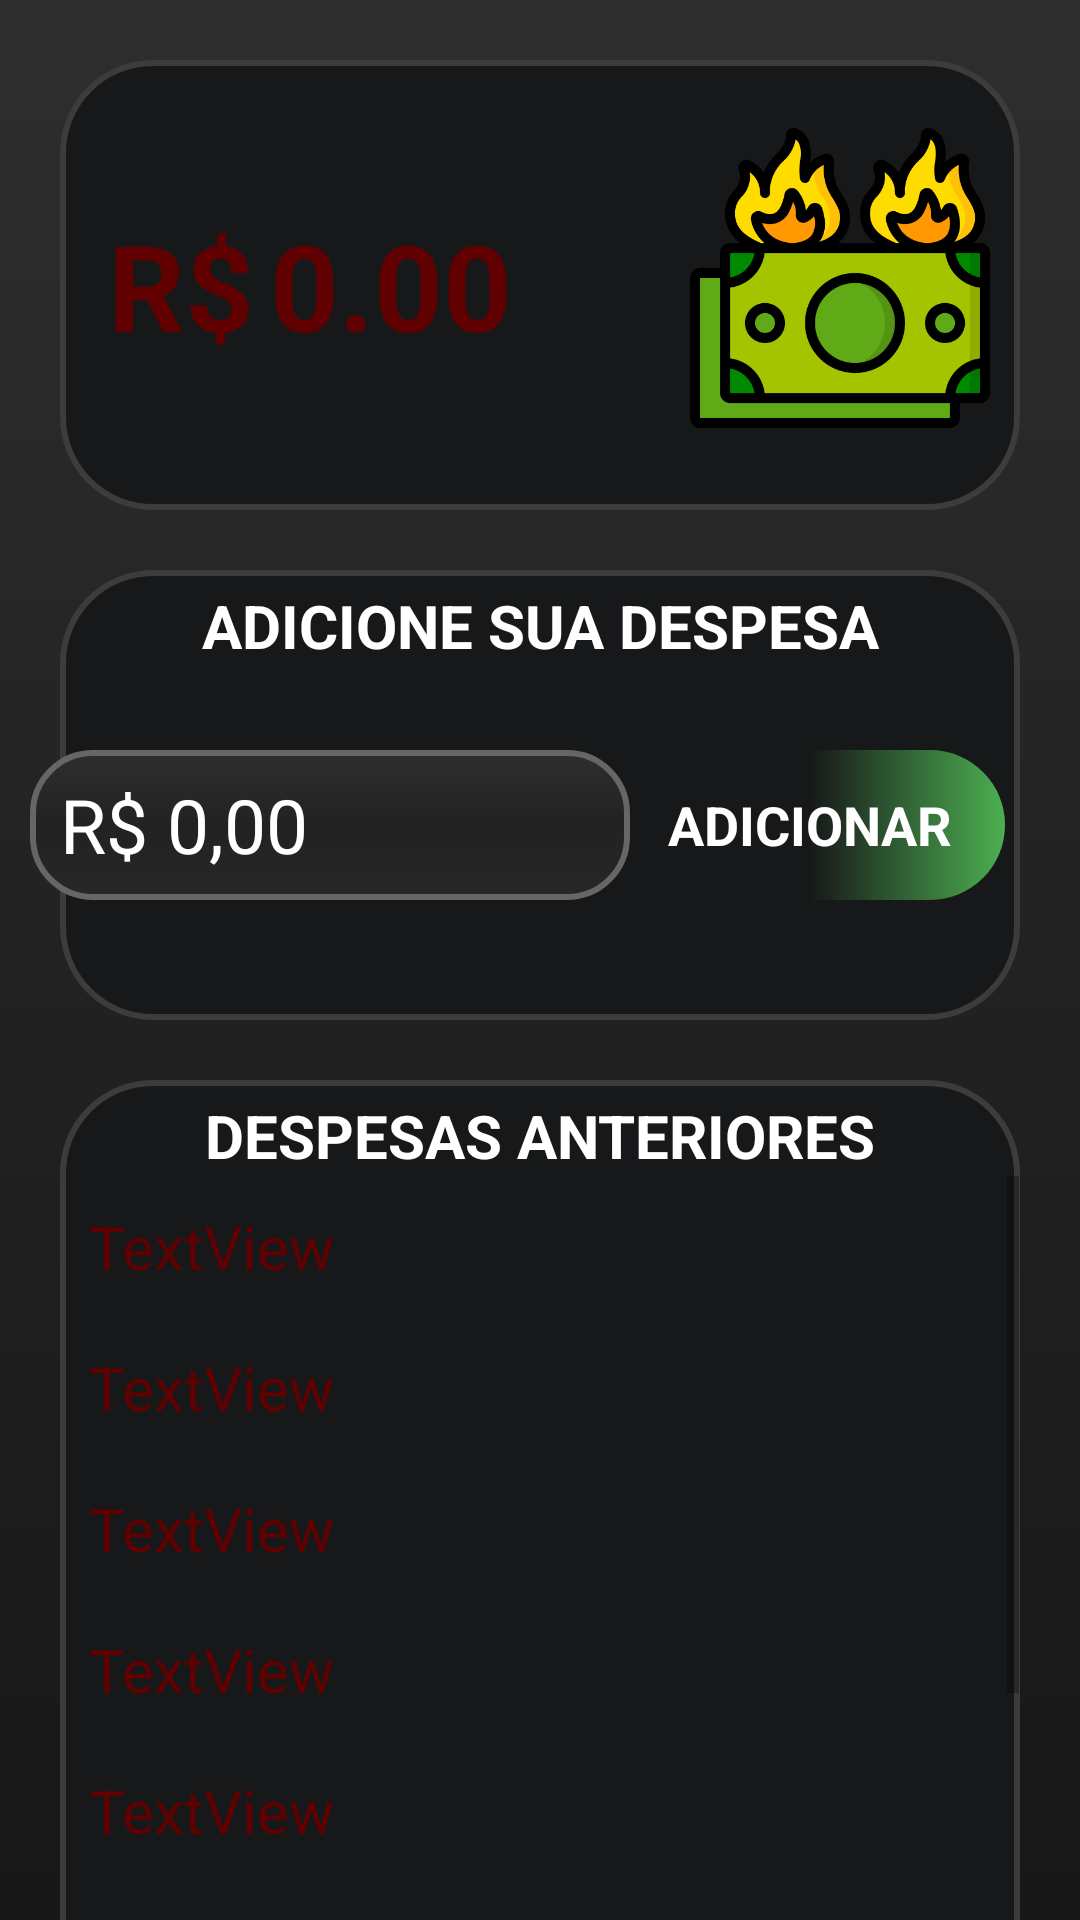

Icon bounding boxes for this 1080px×1920px phone screenshot, format (x1, y1, x2, y2):
despesas: (690, 128, 990, 428)
